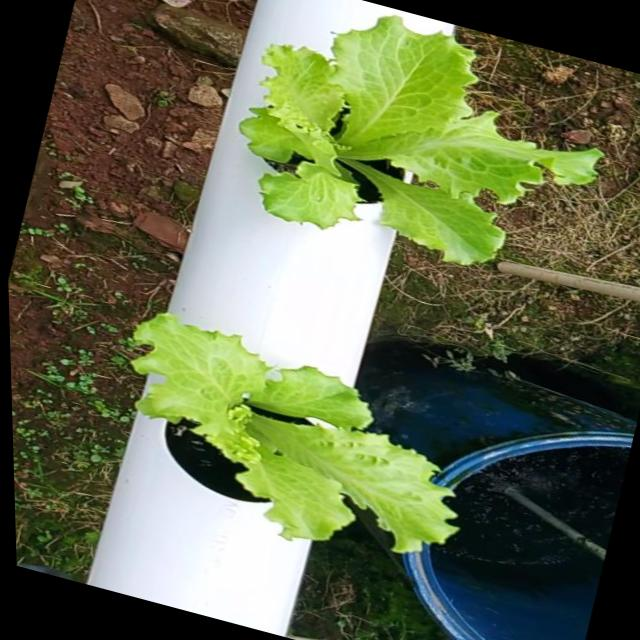Baby: (238, 21, 601, 272), (132, 325, 463, 566)
